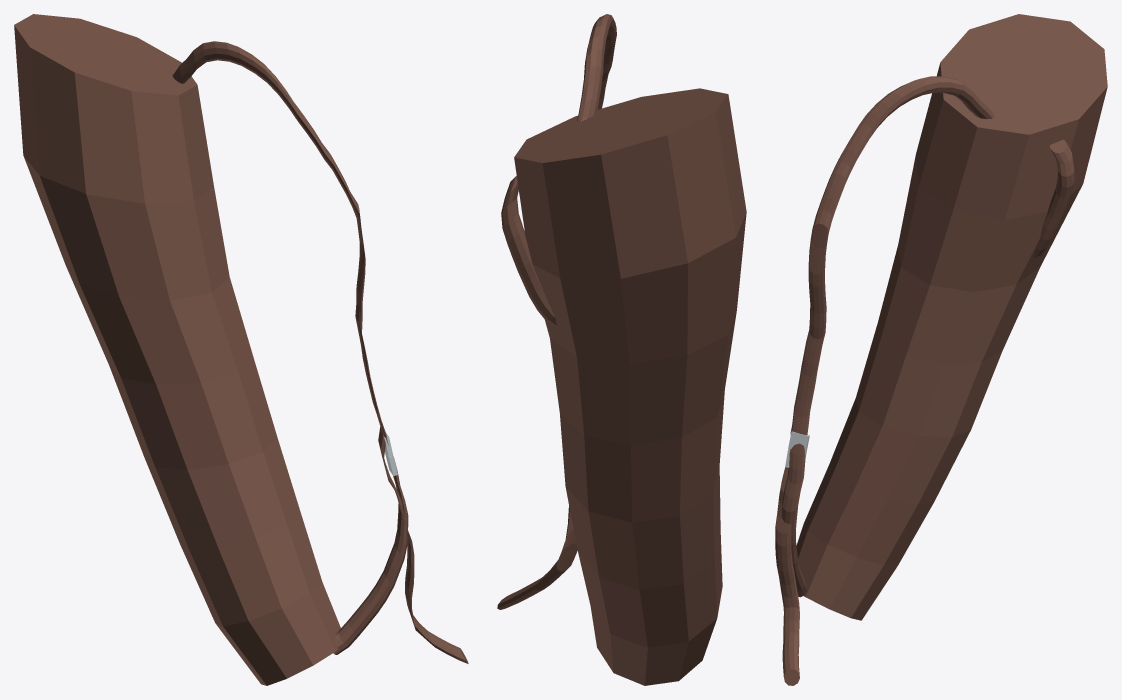
The model's file is Quiver.obj.
3 views of the same model, side by side, from view 1: azimuth 30°, elevation 25°; view 2: azimuth 150°, elevation 25°; view 3: azimuth 270°, elevation 25° (orthographic). The views are drawn at different scales.
Parts seen in each view (by area): view 1: group1872731913, group1818733053, group892310153; view 2: group1872731913, group1818733053, group985535522, group892310153; view 3: group1872731913, group1818733053, group892310153, group985535522.
Part boxes in pixels (x1=…): group1872731913: x1=14, y1=14, x2=340, y2=685; group1818733053: x1=172, y1=41, x2=408, y2=654; group892310153: x1=378, y1=427, x2=468, y2=663; group1872731913: x1=514, y1=88, x2=746, y2=685; group1818733053: x1=577, y1=14, x2=616, y2=121; group985535522: x1=501, y1=176, x2=556, y2=327; group892310153: x1=497, y1=506, x2=577, y2=609; group1872731913: x1=796, y1=14, x2=1107, y2=620; group1818733053: x1=781, y1=76, x2=995, y2=597; group892310153: x1=775, y1=428, x2=799, y2=685; group985535522: x1=1033, y1=139, x2=1074, y2=259.
Size of the model in its own units: 0.3774 by 0.6861 by 0.3841.
